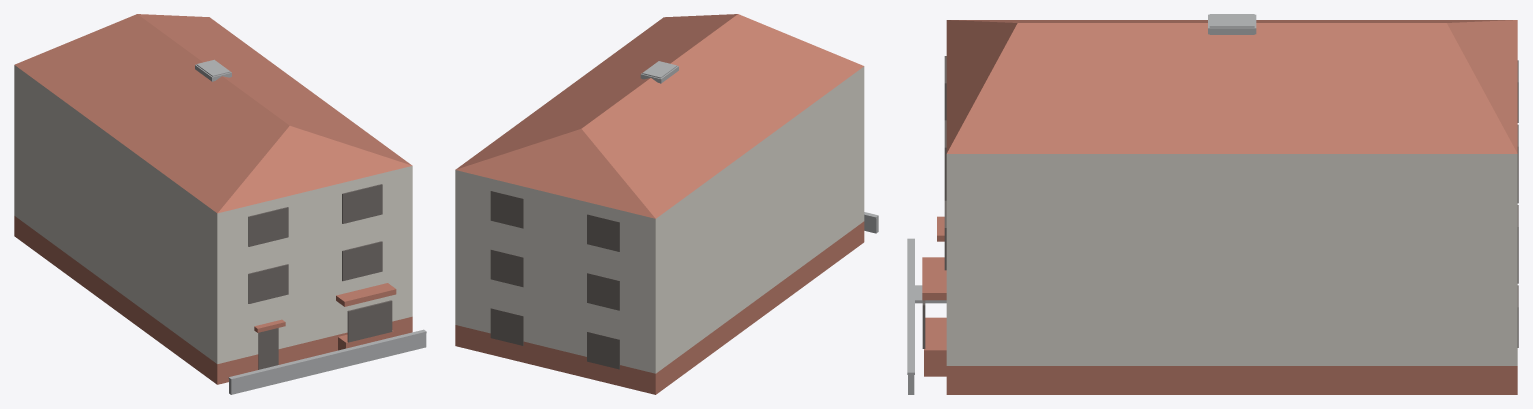
Rendered from terrace_a2.glb.
The picture shows the model from 3 angles, left to right: view 1: azimuth 30°, elevation 25°; view 2: azimuth 150°, elevation 25°; view 3: azimuth 270°, elevation 25°; orthographic projection. The views are drawn at different scales.
Visible parts, largest first — view 1: terrace_a2; view 2: terrace_a2; view 3: terrace_a2.
Boxes of the visible parts, x1,y1,x2,y2 form: terrace_a2: (14, 14, 426, 394); terrace_a2: (455, 14, 878, 394); terrace_a2: (907, 14, 1518, 394).
Size of the model in its own units: 9.8 by 10.5 by 18.9.
